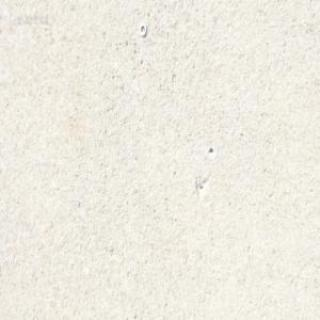Washertrack_idkeyframe: (138, 21, 146, 36)
